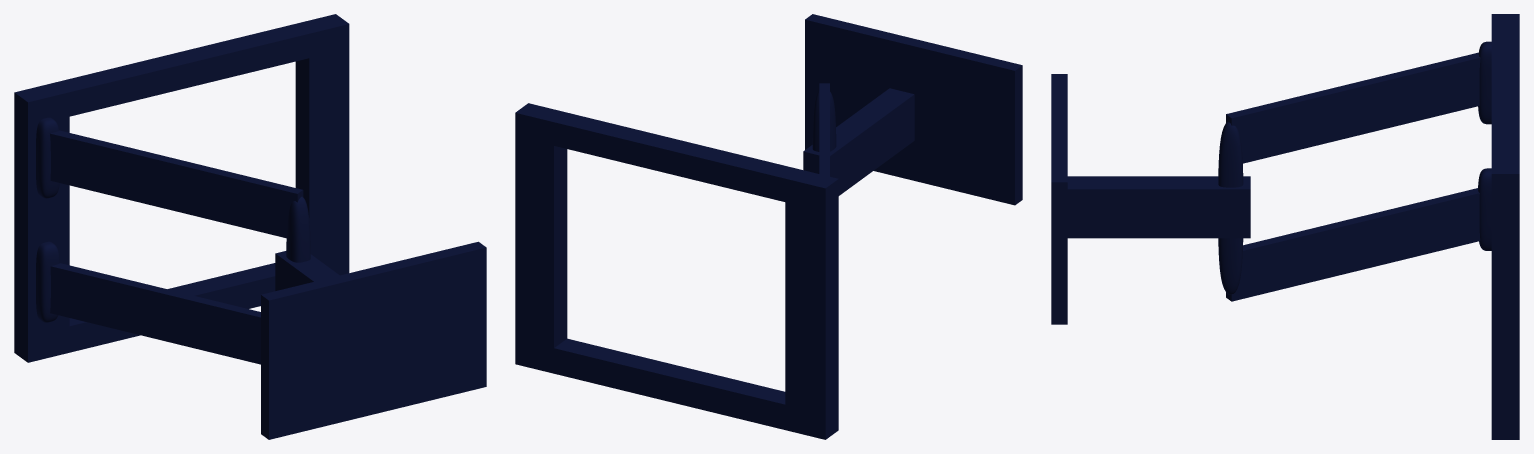
The model's file is WallMount.fbx.
The picture shows the model from 3 angles, left to right: view 1: azimuth 30°, elevation 25°; view 2: azimuth 150°, elevation 25°; view 3: azimuth 270°, elevation 25°; orthographic projection. The views are drawn at different scales.
Visible parts, largest first — view 1: pCube5, pCube10, pCube2, pCube7, pCube9, pCube8, pCube6, pCube3; view 2: pCube5, pCube10, pCube9, pCube2, pCube8; view 3: pCube2, pCube7, pCube5, pCube9, pCube10, pCube8, pCube3, pCube6.
Part boxes in pixels (<box>): pCube5: <box>14,14,349,362</box>; pCube10: <box>261,241,486,439</box>; pCube2: <box>50,130,303,238</box>; pCube7: <box>50,263,260,364</box>; pCube9: <box>275,251,339,290</box>; pCube8: <box>286,196,310,262</box>; pCube6: <box>36,241,59,322</box>; pCube3: <box>36,117,59,198</box>; pCube5: <box>515,103,838,439</box>; pCube10: <box>805,14,1022,205</box>; pCube9: <box>803,88,914,195</box>; pCube2: <box>819,83,829,176</box>; pCube8: <box>812,91,836,151</box>; pCube2: <box>1226,52,1480,163</box>; pCube7: <box>1226,188,1480,301</box>; pCube5: <box>1491,14,1519,439</box>; pCube9: <box>1067,176,1250,238</box>; pCube10: <box>1051,74,1067,324</box>; pCube8: <box>1218,122,1243,294</box>; pCube3: <box>1478,41,1491,124</box>; pCube6: <box>1478,168,1491,250</box>.
Bounding box in the file's own units: 2 × 1.55 × 2.47.
